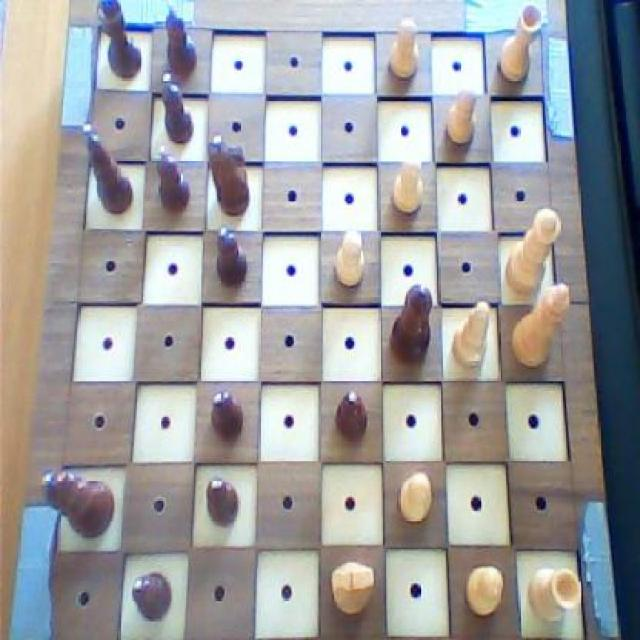bishop: (80, 120, 135, 215)
black-bishop: (35, 457, 120, 541)
black-knight: (157, 63, 201, 149), (209, 220, 253, 300), (152, 142, 197, 220), (160, 0, 200, 82), (205, 382, 249, 444), (128, 568, 173, 624), (331, 384, 370, 448), (203, 472, 242, 533)
black-pawn: (388, 280, 437, 371)
black-queen: (97, 0, 145, 83)
black-rook: (449, 296, 495, 372)
white-bishop: (501, 203, 564, 299)
white-king: (328, 558, 378, 618)
white-knight: (390, 148, 428, 218), (442, 81, 479, 152), (329, 222, 368, 289), (463, 562, 508, 618), (385, 12, 422, 80), (397, 468, 437, 527)
white-pawn: (506, 278, 572, 377)
white-queen: (524, 558, 588, 628), (496, 0, 544, 86)
